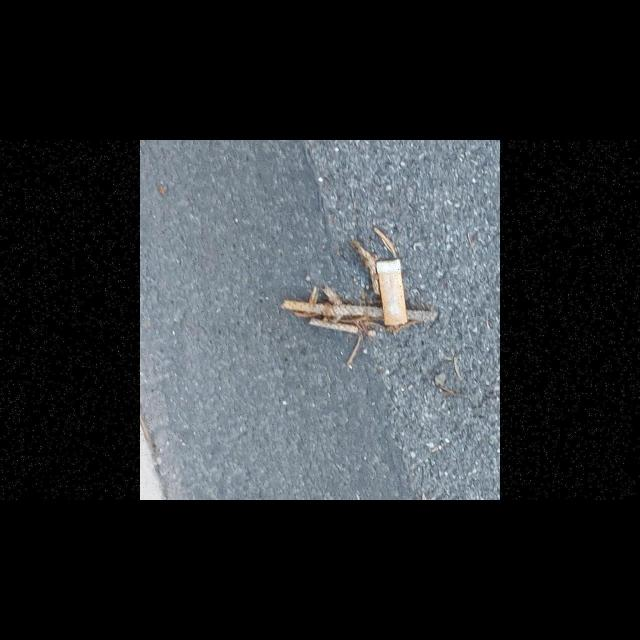cigarette: (376, 258, 408, 326)
